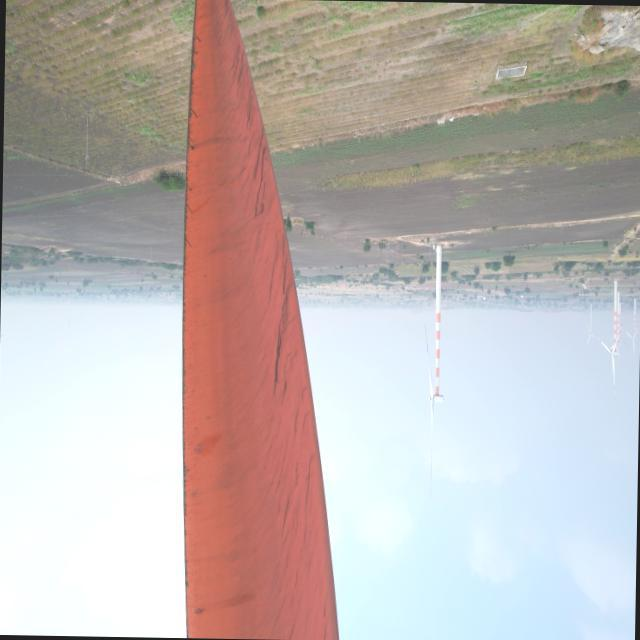Dirt: (187, 0, 345, 639)
